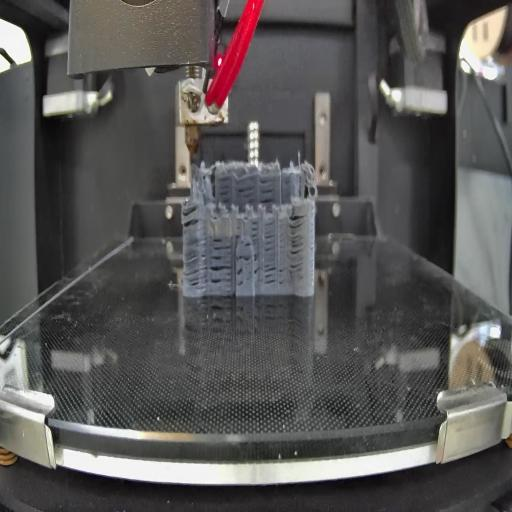cracks: (182, 203, 208, 289), (210, 236, 232, 287), (288, 213, 305, 275), (235, 174, 256, 206), (263, 261, 288, 287), (259, 174, 277, 206), (264, 219, 278, 255), (218, 175, 231, 204), (235, 251, 253, 263), (254, 253, 261, 283), (235, 267, 244, 288), (234, 215, 242, 238), (250, 218, 258, 236), (243, 241, 252, 247)
